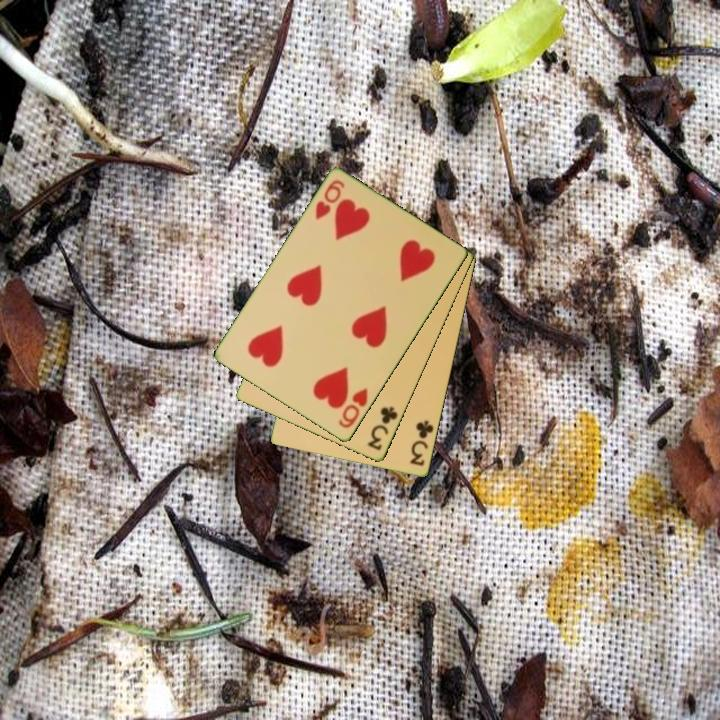3c: (364, 403, 401, 454), (407, 417, 437, 469)
6h: (335, 385, 371, 432), (312, 177, 348, 223)
